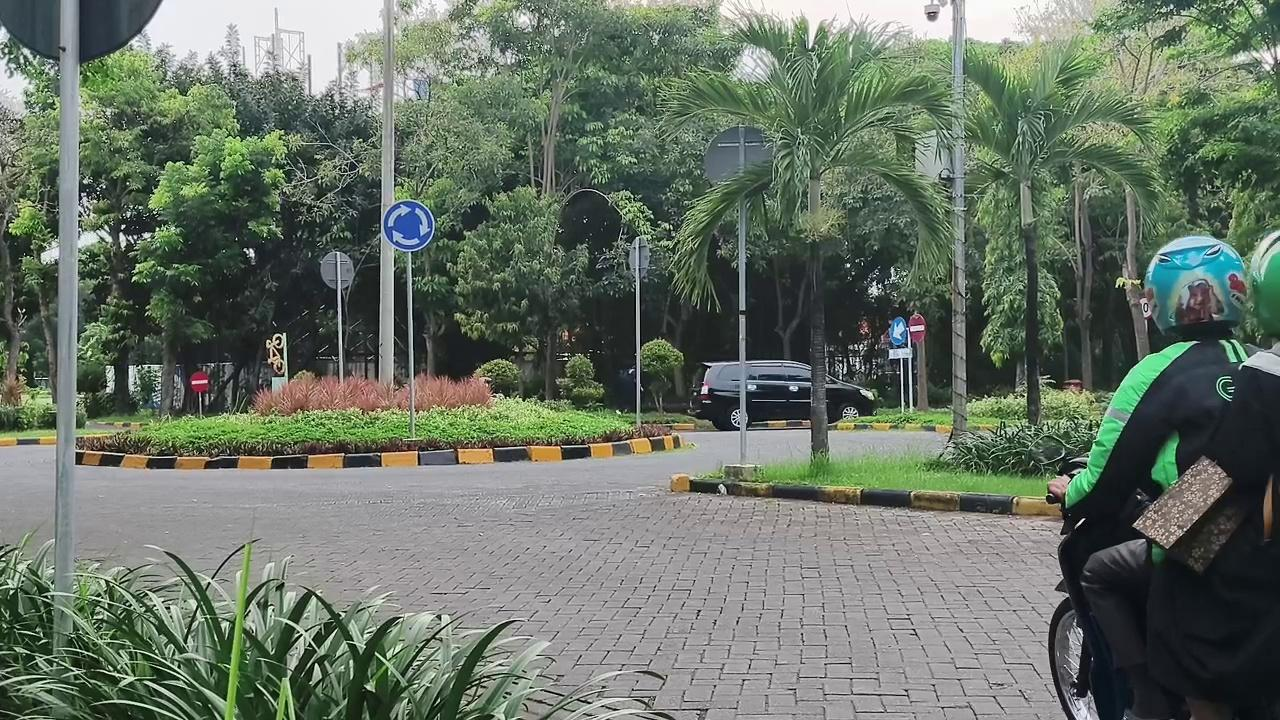Helmet: (1049, 237, 1246, 524), (1147, 343, 1279, 719)
Motor: (1048, 493, 1150, 719)
